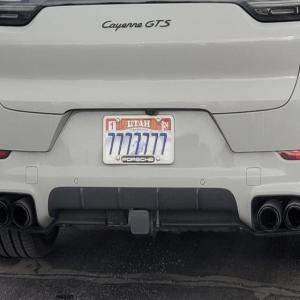Plate: (103, 115, 174, 165)
